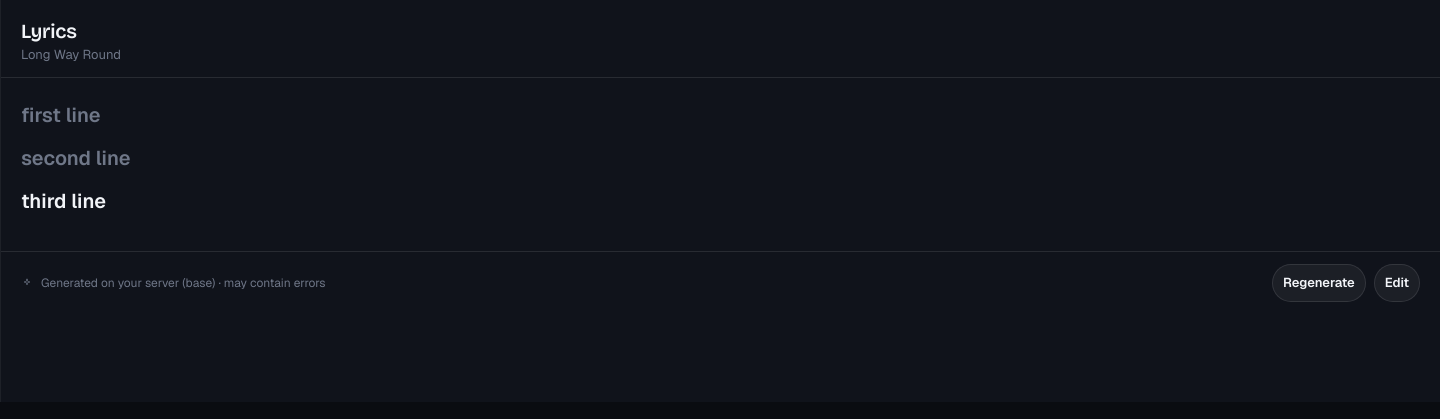
Test: the lyrics panel › lets an admin regenerate what the server produced, and says so while it works
This screenshot has width=1440, height=419.
Expected: the button "first line" is shown, [21, 98, 1420, 133]
Click the button "Regenerate". click: (1319, 283)
box: [1272, 264, 1366, 302]
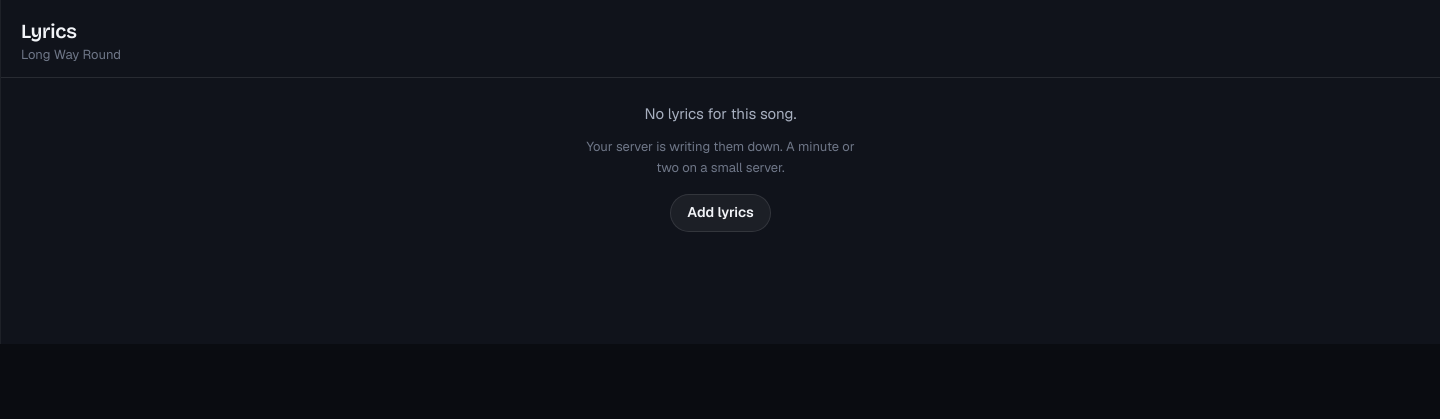
Result: the text "Your server is writing them down" is shown at [586, 138, 855, 176]
Result: the button "Regenerate" is gone
